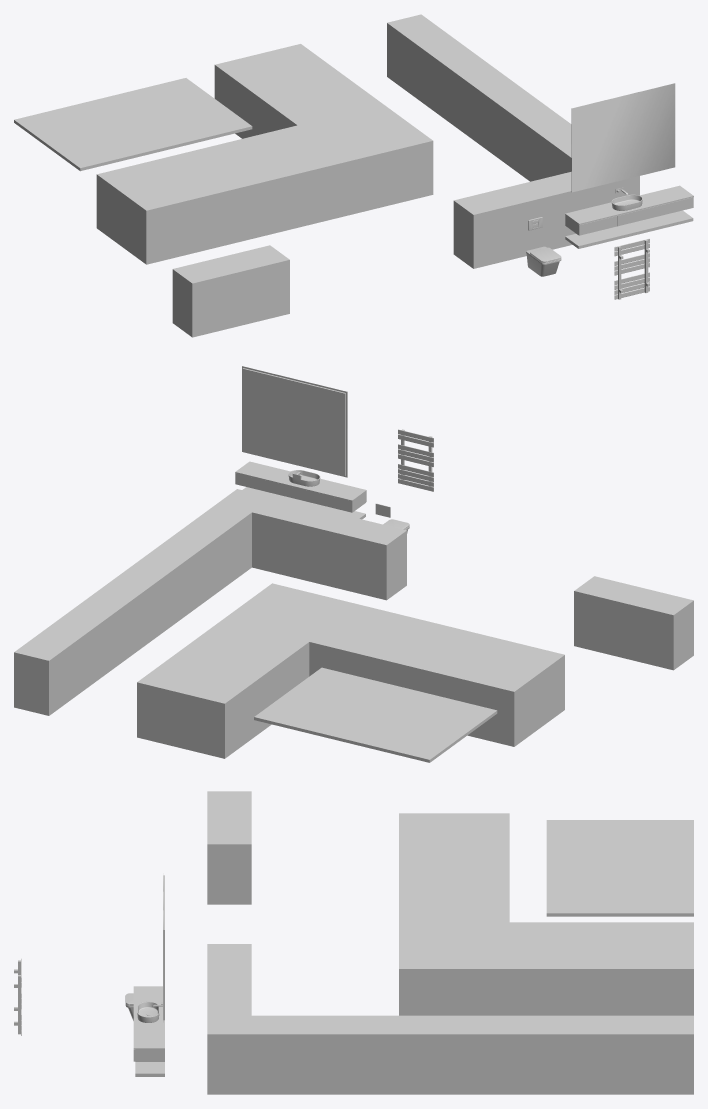
The model's file is RB05__Storey__GroundFloor__ProposedFixtures__MeshModel__.glb.
3 renders of one model, top to bottom at view 1: azimuth 30°, elevation 25°; view 2: azimuth 150°, elevation 25°; view 3: azimuth 270°, elevation 25°, orthographic. The views are drawn at different scales.
Parts seen in each view (by area): view 1: 27__ProposedBuilding__Fixtures::Default, 27__ProposedBuilding__Fixtures::MAT140__Mirror__ClearDefault; view 2: 27__ProposedBuilding__Fixtures::Default; view 3: 27__ProposedBuilding__Fixtures::Default.
Part boxes in pixels (x1,y1,x2,y2): 27__ProposedBuilding__Fixtures::Default: [14, 14, 693, 337]; 27__ProposedBuilding__Fixtures::MAT140__Mirror__ClearDefault: [571, 83, 675, 192]; 27__ProposedBuilding__Fixtures::Default: [14, 366, 693, 762]; 27__ProposedBuilding__Fixtures::Default: [14, 791, 693, 1094].
Bounding box in the file's own units: 8.17 × 2.6 × 9.22.
Materials: 2 (1 with a texture image).
